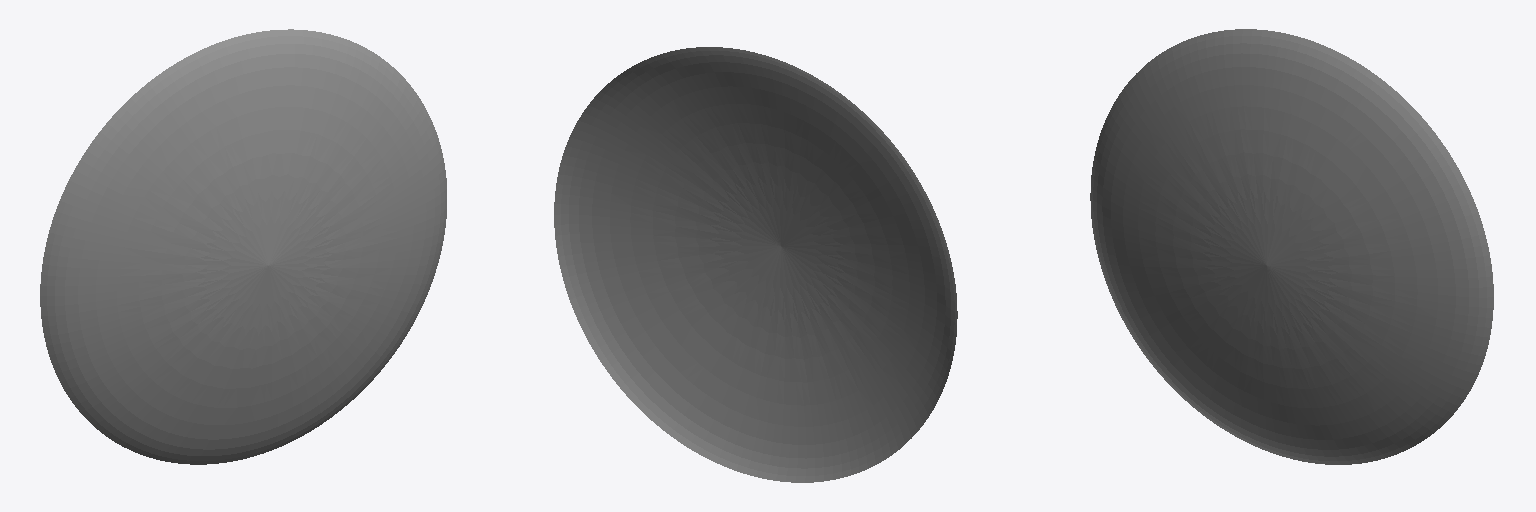
Rendered from eyeball_3.obj.
3 views of the same model, side by side, from view 1: azimuth 30°, elevation 25°; view 2: azimuth 150°, elevation 25°; view 3: azimuth 330°, elevation 25° (orthographic).
Bounding box in the file's own units: 1.49 × 1.49 × 0.1671.